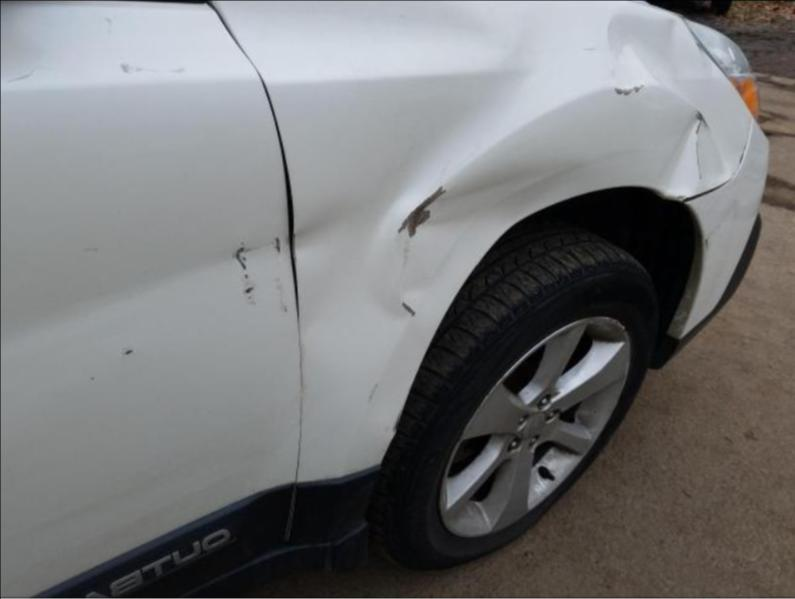Broken part: (265, 91, 302, 343), (666, 174, 731, 214)
Dent: (6, 200, 292, 396), (340, 6, 601, 211), (364, 154, 549, 331), (605, 15, 685, 99), (656, 108, 728, 200), (266, 204, 355, 259), (701, 200, 735, 251), (733, 203, 758, 224)
Paint chip: (398, 186, 446, 270), (230, 246, 248, 278), (614, 84, 644, 96), (695, 109, 709, 134), (696, 137, 701, 179)
Scratch: (120, 61, 186, 73), (244, 241, 273, 256), (275, 282, 288, 312), (8, 69, 33, 81), (392, 407, 402, 431), (366, 382, 376, 402), (273, 236, 282, 256), (119, 348, 136, 356), (104, 17, 111, 35), (79, 247, 99, 253), (582, 47, 596, 51), (704, 237, 708, 250), (89, 376, 95, 384), (676, 195, 685, 199)
